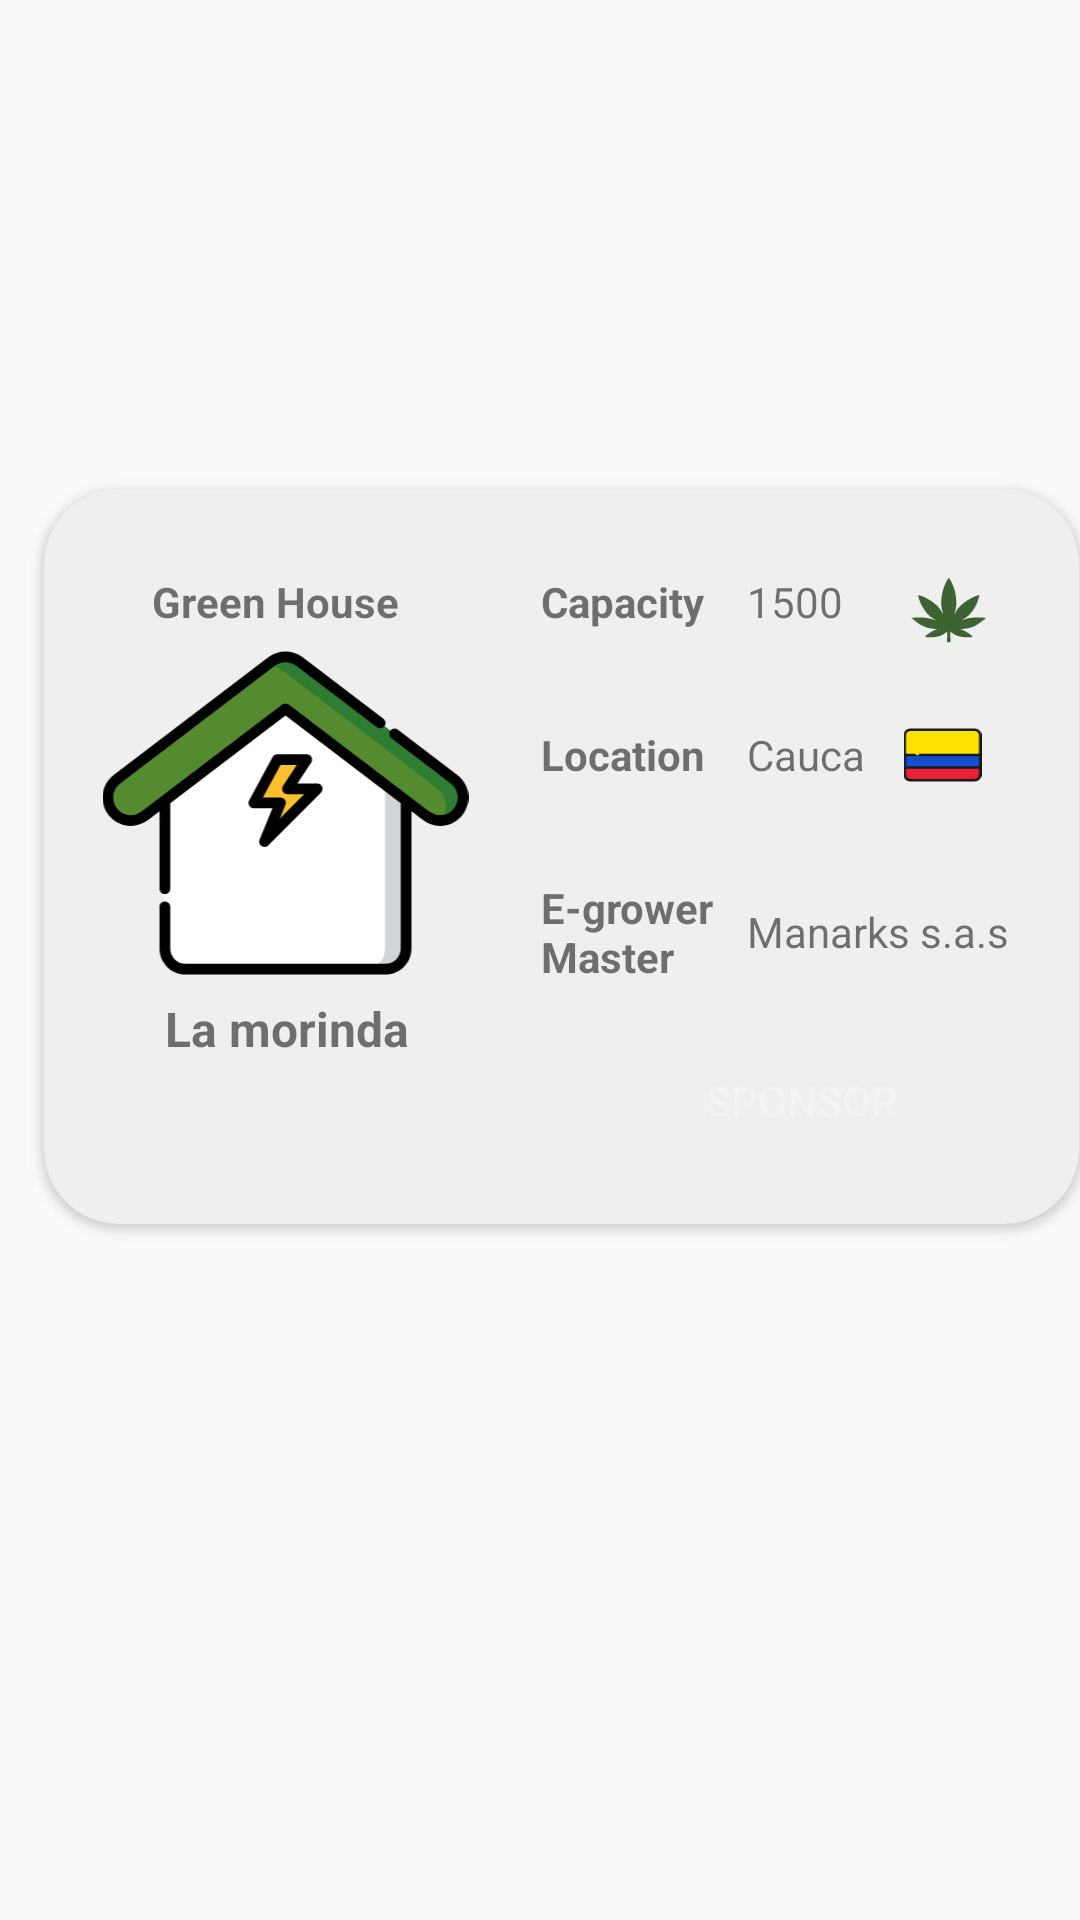

Icon click points for this 1080px×1920px phone screenshot, format [x,y]:
colombia: [943,755]
